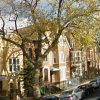Tree: (6, 0, 100, 74)
